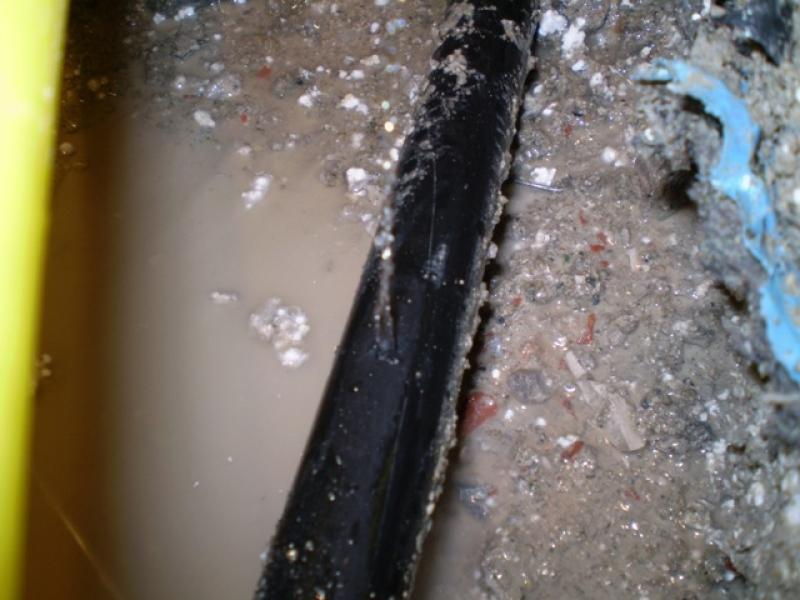pipe burst: (367, 209, 400, 366)
water accumulation: (17, 84, 378, 600)
